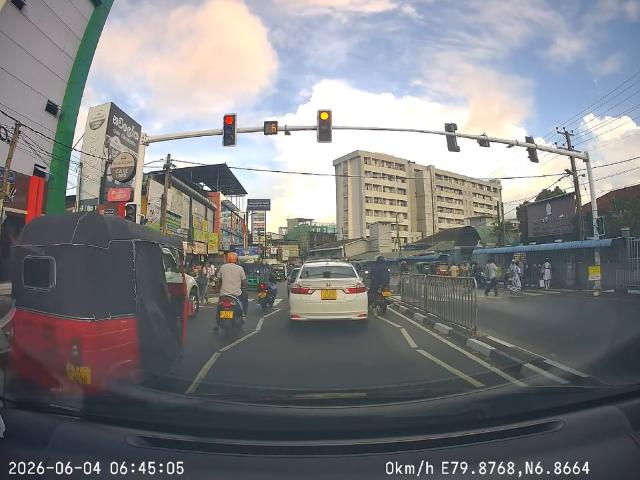traffic light red: (217, 106, 243, 154)
